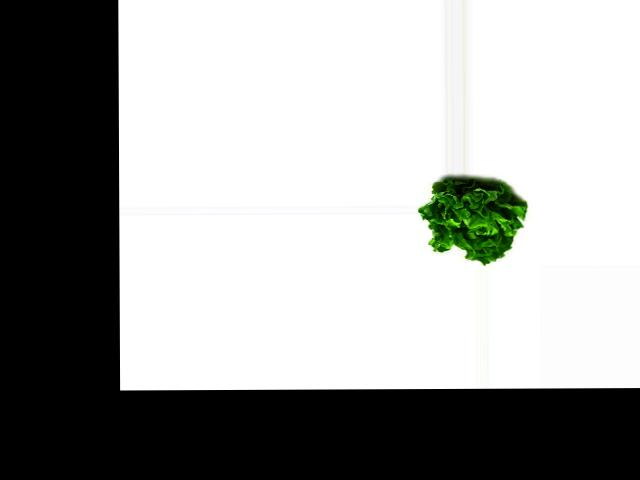lettuce: (419, 175, 525, 264)
